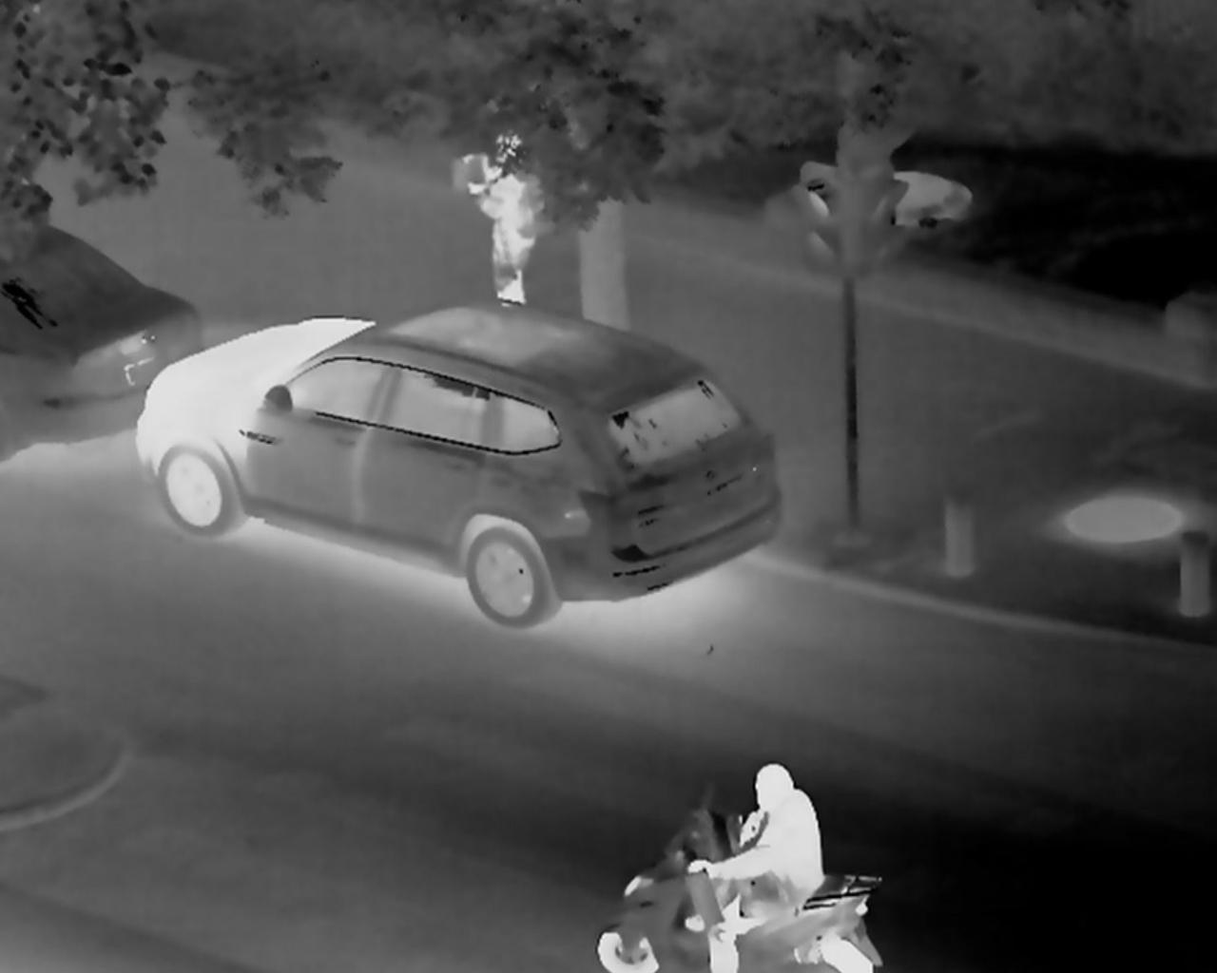person: (660, 760, 867, 973), (455, 130, 552, 313)
